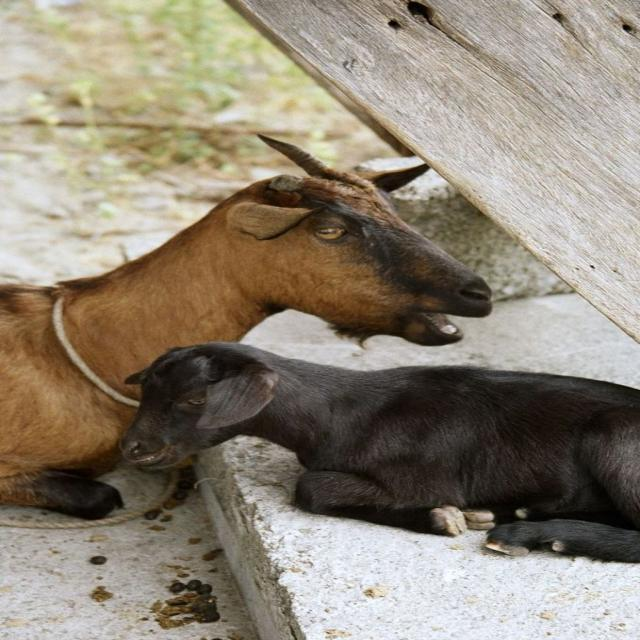Goat: (0, 132, 493, 521), (117, 341, 638, 563)
